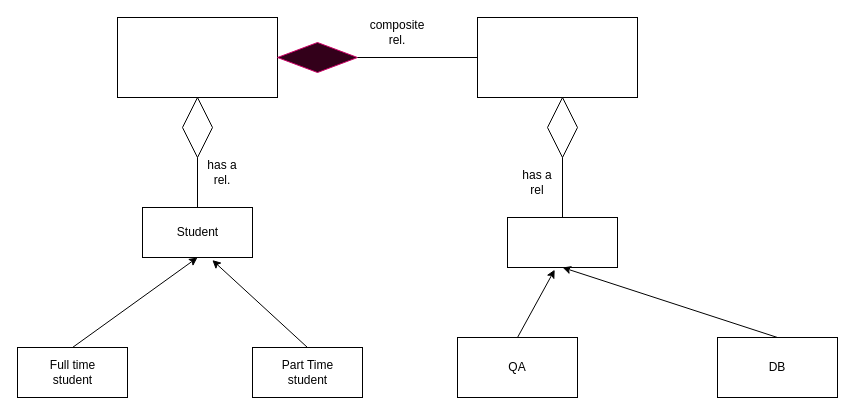
Image size: 855x415. Some labels were removed from this diagram. Here are the shapes that lost their labels. From the top down, the box of each, then its label:
(116, 16, 278, 98): School
(476, 16, 638, 98): Department
(506, 216, 618, 268): Courses
